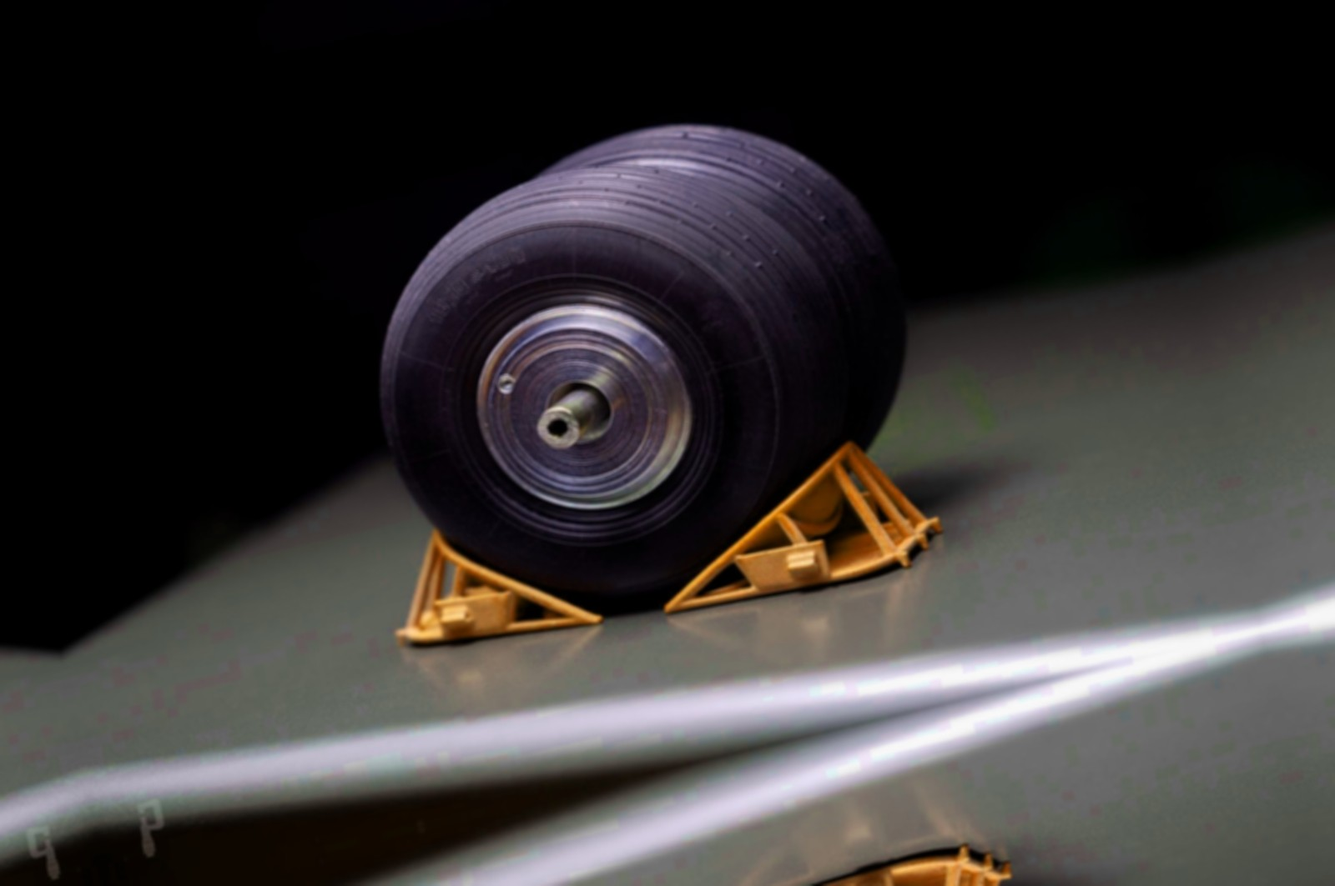chock: (636, 425, 951, 626), (372, 492, 614, 673), (722, 835, 1034, 886)
wheel: (328, 109, 905, 669), (470, 75, 956, 594)
